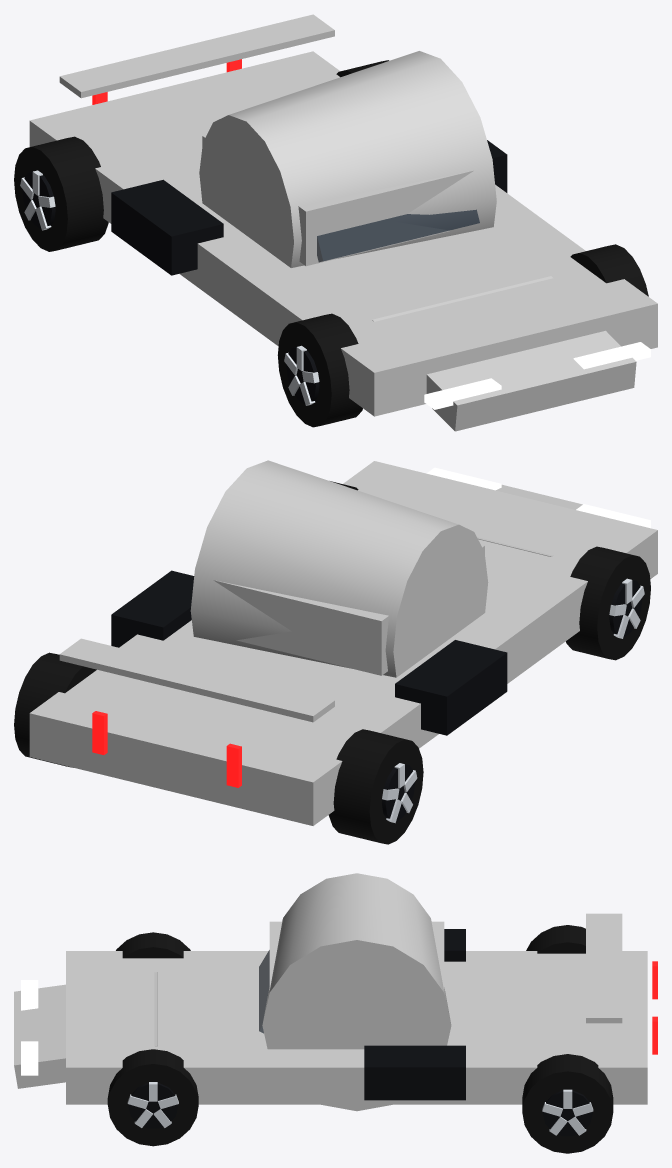
Rendered from ferocity-manticore.glb.
3 views of the same model, one above another, from view 1: azimuth 30°, elevation 25°; view 2: azimuth 150°, elevation 25°; view 3: azimuth 270°, elevation 25° (orthographic). The views are drawn at different scales.
Parts seen in each view (by area): view 1: chassis, wheel-back-left, wheel-front-left, glass, wheel-front-right; view 2: chassis, wheel-back-left, wheel-front-left, wheel-back-right; view 3: chassis, wheel-back-right, wheel-front-right, wheel-front-left, wheel-back-left, glass.
Part boxes in pixels (<box>): chassis: <box>29,14,657,431</box>; wheel-back-left: <box>14,136,108,251</box>; wheel-front-left: <box>277,313,362,427</box>; glass: <box>317,209,479,262</box>; wheel-front-right: <box>570,244,648,296</box>; chassis: <box>29,460,657,825</box>; wheel-back-left: <box>328,729,423,844</box>; wheel-front-left: <box>566,546,650,660</box>; wheel-back-right: <box>14,652,96,767</box>; chassis: <box>14,873,657,1111</box>; wheel-back-right: <box>522,1054,613,1153</box>; wheel-front-right: <box>107,1049,198,1146</box>; wheel-front-left: <box>116,932,190,958</box>; wheel-back-left: <box>526,925,585,953</box>; glass: <box>259,950,269,1033</box>.
Size of the model in its own units: 2.46 by 1.37 by 4.43.
